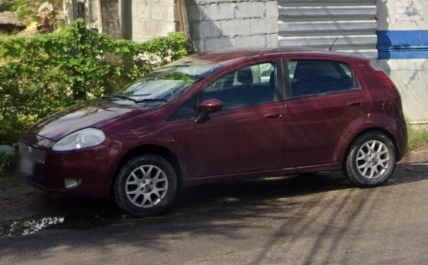car: (27, 45, 409, 222)
